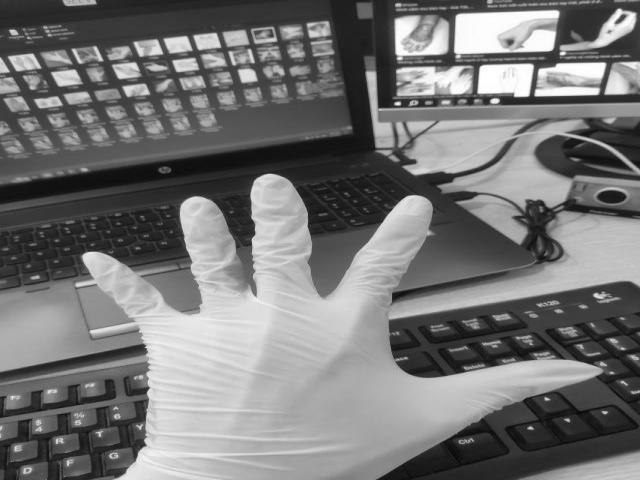gloved: (81, 176, 604, 480)
